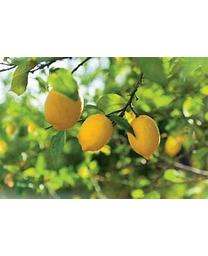lemon: (43, 87, 84, 131), (128, 115, 161, 160), (78, 114, 113, 152)
